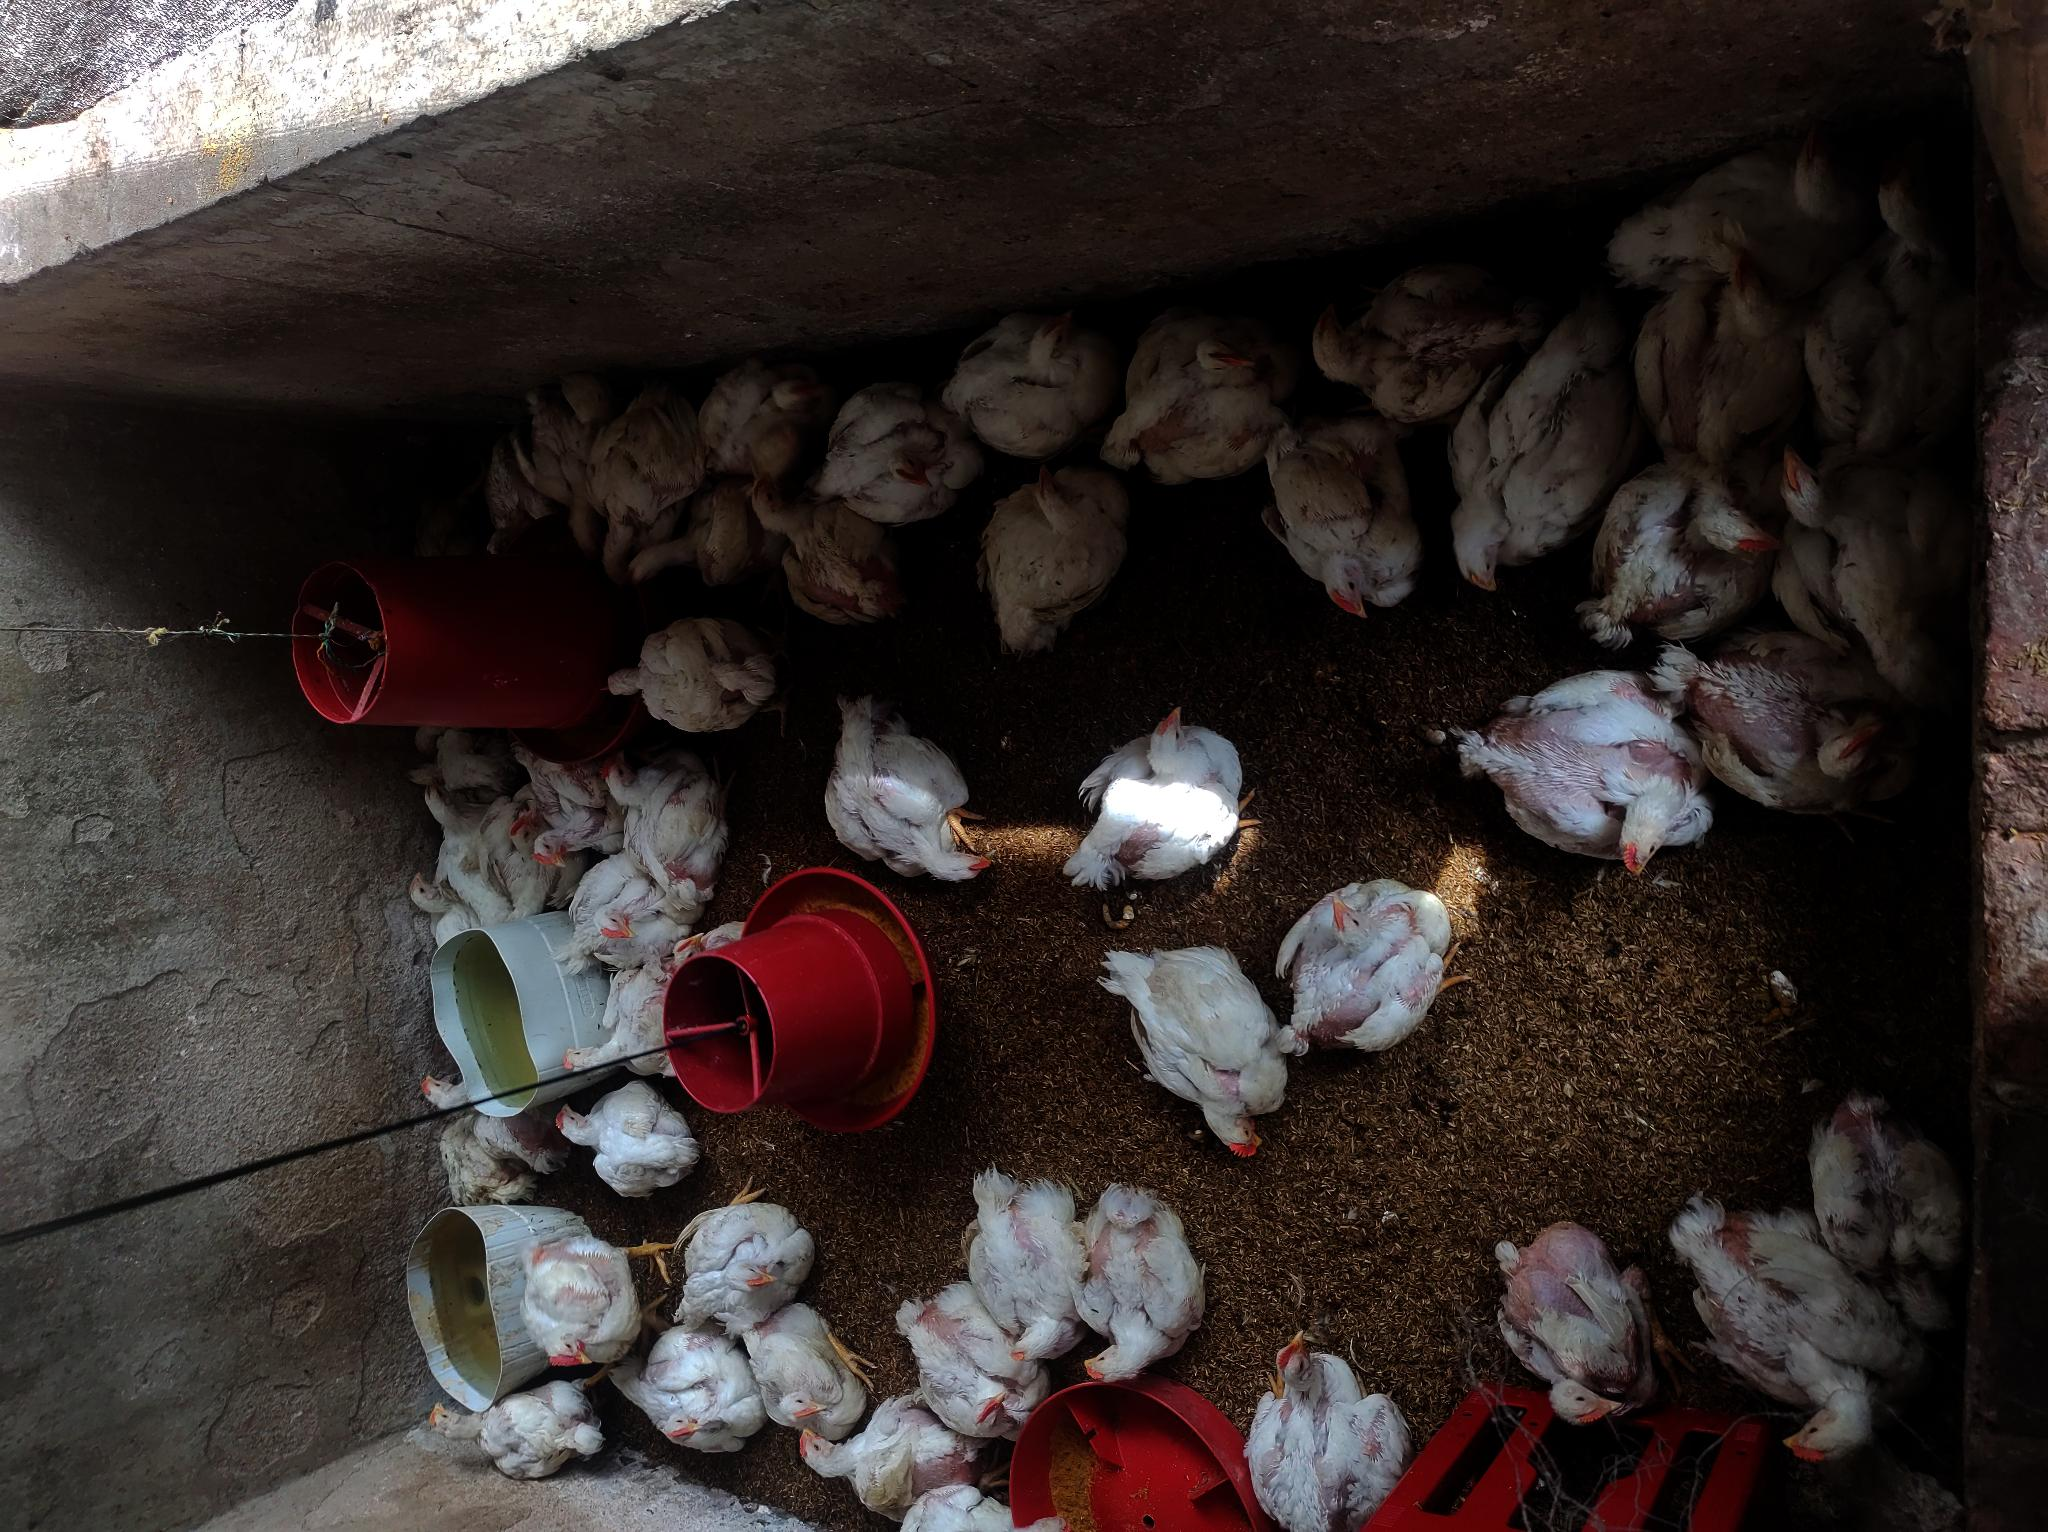Pollos: (1686, 1186, 1921, 1468), (1441, 306, 1643, 595), (1784, 434, 1976, 726), (1683, 603, 1886, 822), (1487, 674, 1700, 877), (1495, 1223, 1676, 1455), (1810, 1093, 1980, 1334), (1820, 172, 1980, 426), (1594, 449, 1779, 669), (1105, 941, 1284, 1167), (1274, 871, 1467, 1067), (1630, 259, 1818, 460), (1612, 146, 1874, 286), (1245, 1328, 1424, 1532), (1063, 702, 1245, 901), (1268, 414, 1429, 626), (1113, 294, 1293, 476), (1075, 1183, 1223, 1398), (1310, 266, 1525, 410), (968, 462, 1134, 645), (832, 713, 1001, 892), (946, 291, 1126, 451), (893, 1273, 1059, 1439), (948, 1159, 1081, 1361), (587, 383, 703, 586), (423, 1365, 621, 1482), (758, 486, 911, 637), (507, 365, 624, 558), (806, 375, 977, 505), (504, 1223, 648, 1374), (676, 1189, 816, 1344), (738, 1303, 886, 1448), (698, 340, 851, 475), (405, 1075, 550, 1217), (624, 1328, 779, 1455), (600, 613, 764, 727), (788, 1398, 988, 1492), (547, 1093, 698, 1209), (856, 1452, 1071, 1532), (544, 970, 672, 1085), (603, 739, 726, 855), (634, 484, 759, 592), (563, 851, 672, 974), (515, 748, 615, 864), (402, 462, 492, 578), (407, 797, 500, 896), (668, 893, 759, 980), (402, 858, 476, 949), (393, 737, 494, 798), (478, 423, 520, 555), (507, 797, 557, 855), (409, 711, 450, 743)
